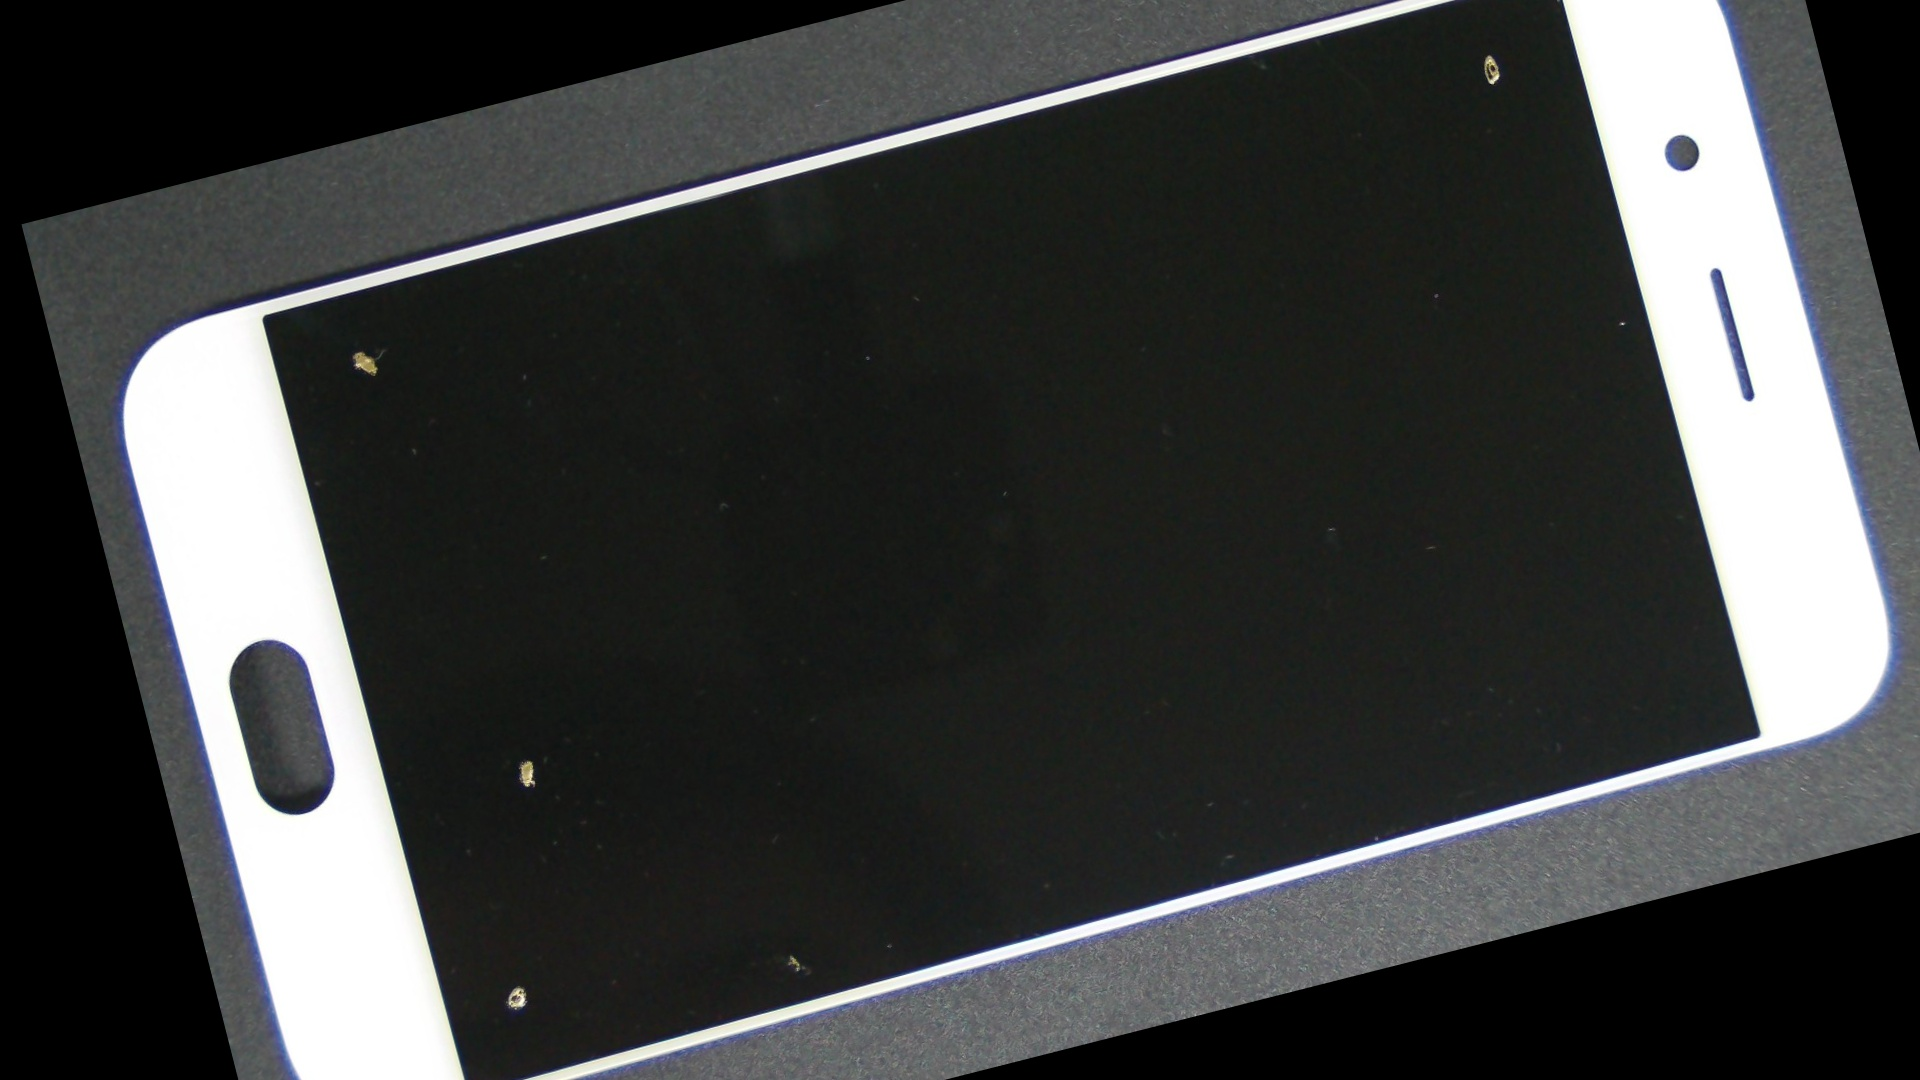oil: (404, 451, 1098, 1080), (752, 0, 1822, 324), (273, 404, 774, 1080), (269, 531, 704, 1080), (191, 211, 527, 480)
